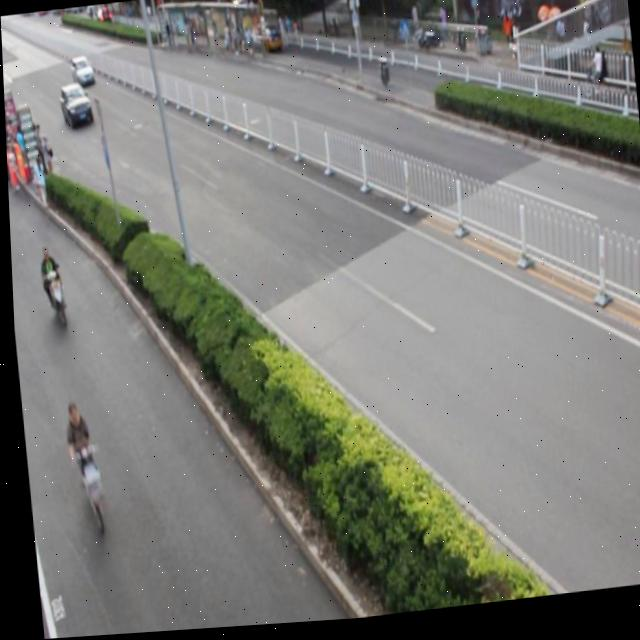car: (250, 22, 282, 59)
